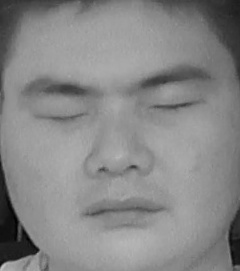blink: (33, 99, 87, 131), (150, 91, 202, 123)
mouth: (82, 188, 168, 235)
